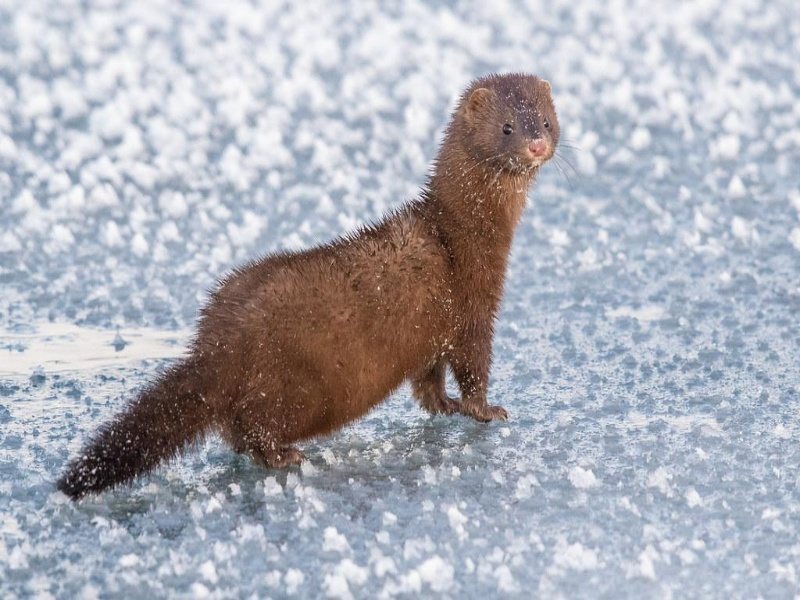minkish: (59, 72, 562, 501)
